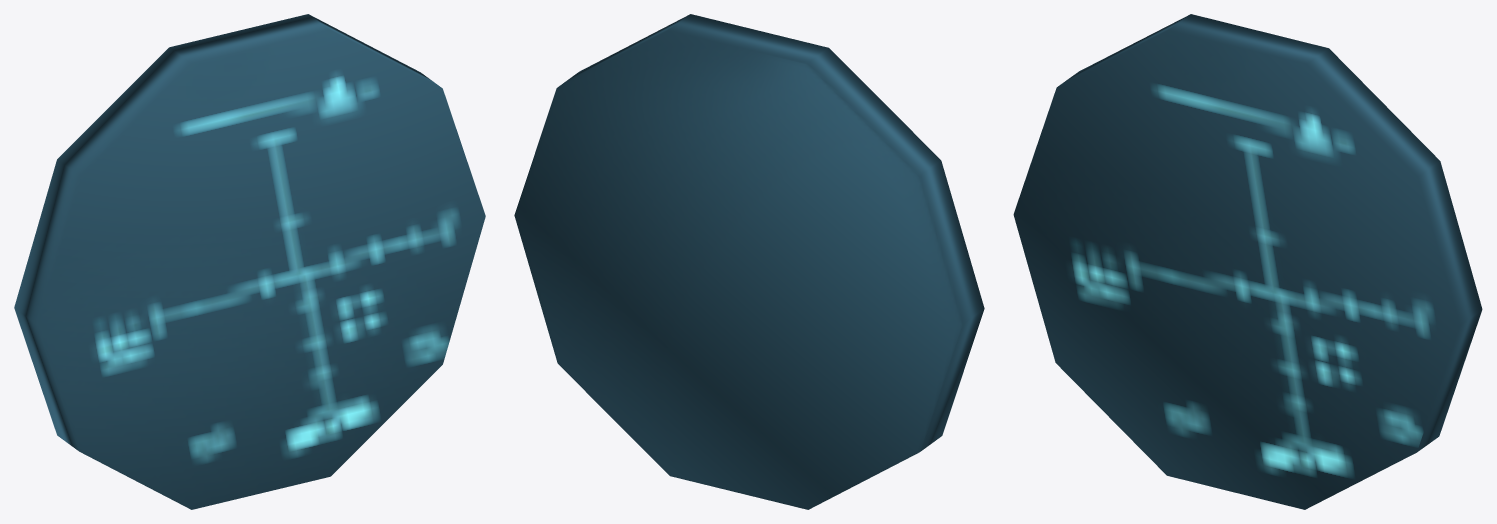
Rendered from Vital_part2.gltf.
3 renders of one model, left to right at view 1: azimuth 30°, elevation 25°; view 2: azimuth 150°, elevation 25°; view 3: azimuth 330°, elevation 25°, orthographic.
Visible parts, largest first — view 1: Vital_part2; view 2: Vital_part2; view 3: Vital_part2.
Part boxes in pixels (left/top/right/bottom): Vital_part2: left=14, top=14, right=485, bottom=509; Vital_part2: left=514, top=14, right=984, bottom=509; Vital_part2: left=1013, top=14, right=1482, bottom=509.
Size of the model in its own units: 0.1862 by 0.177 by 0.0172.
Materials: 1 (1 with a texture image).
